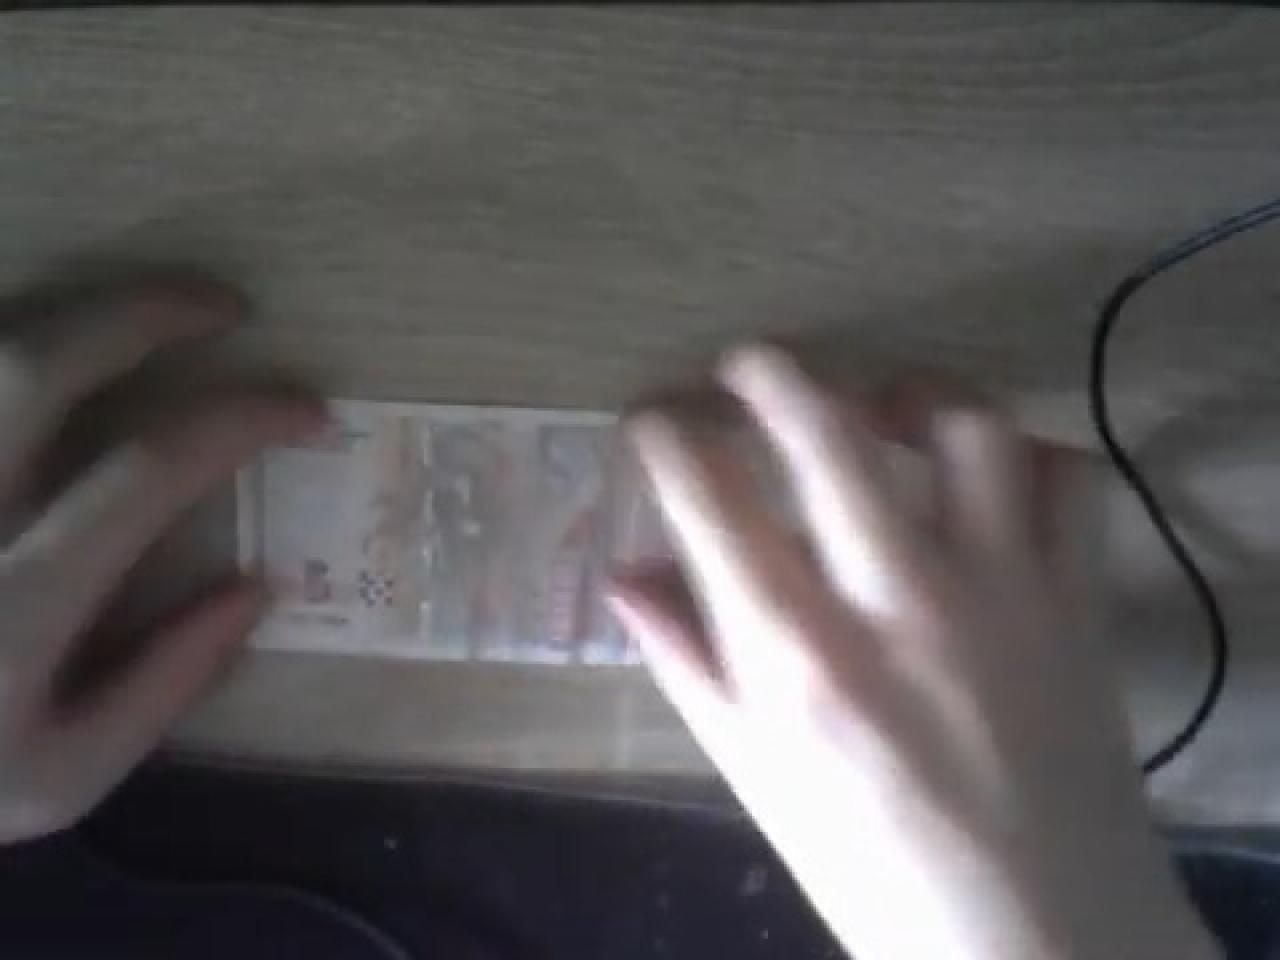5leva: (235, 400, 635, 667)
